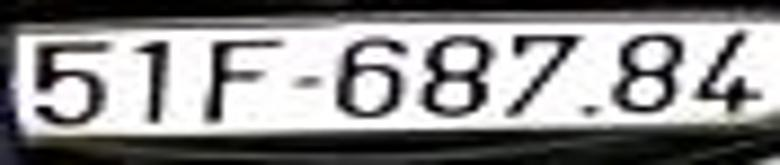-: (296, 74, 315, 87)
.: (585, 103, 595, 113)
1: (144, 40, 166, 123)
4: (695, 29, 760, 114)
5: (34, 42, 106, 127)
6: (340, 37, 402, 121)
7: (511, 32, 573, 117)
8: (424, 34, 488, 116), (615, 33, 679, 111)
F: (209, 42, 277, 121)
